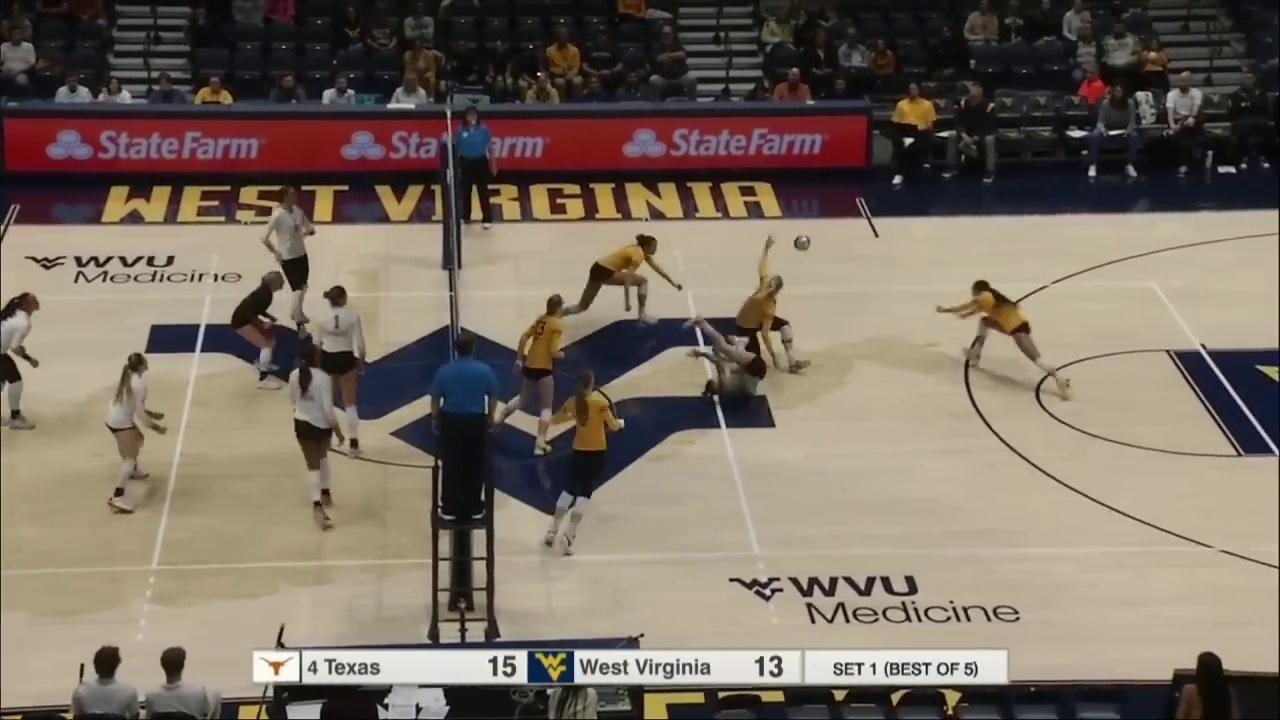player: (533, 364, 630, 559), (936, 278, 1074, 402), (485, 286, 565, 452), (563, 226, 686, 333), (307, 283, 369, 468), (730, 240, 807, 380), (289, 342, 342, 533), (102, 352, 164, 515), (220, 269, 294, 393), (259, 183, 317, 340), (689, 317, 771, 407), (0, 291, 48, 429)
refree: (427, 336, 496, 528), (443, 103, 498, 232)
